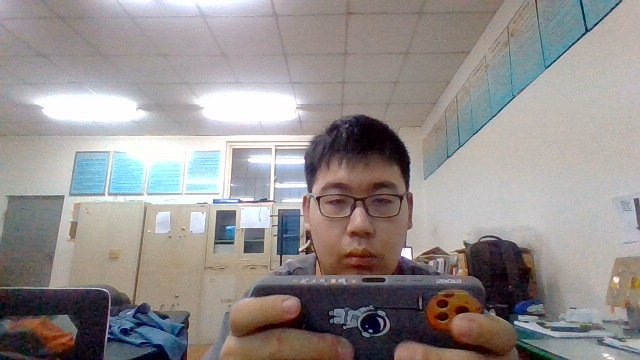playing: (221, 111, 506, 358)
